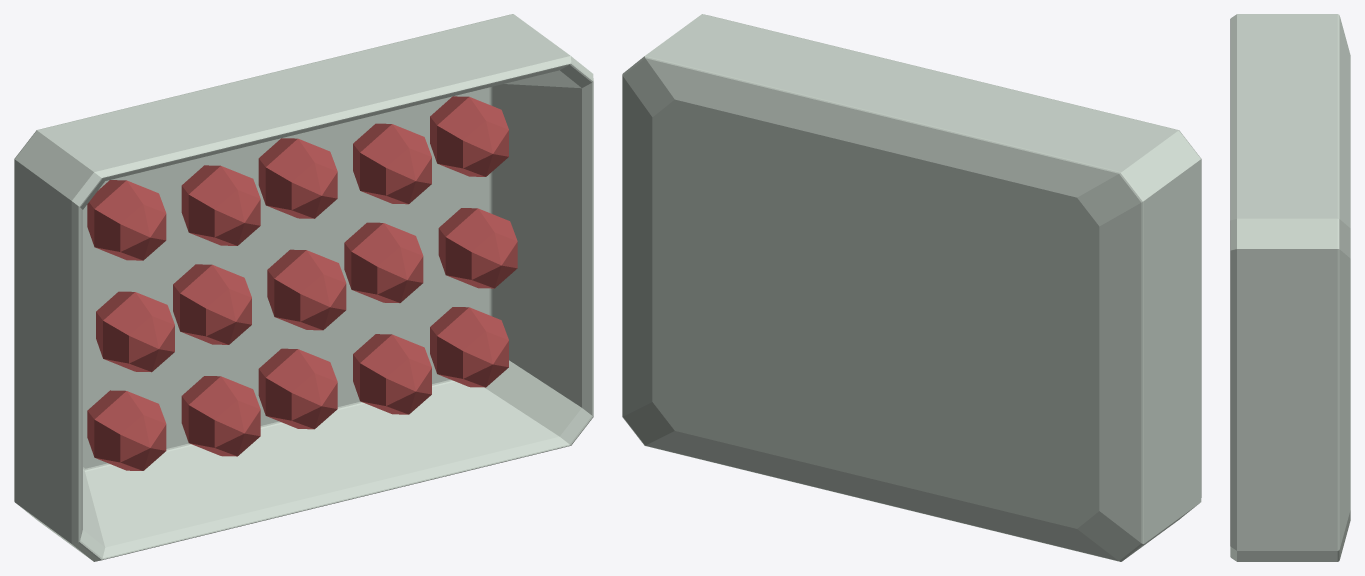
Rendered from cranberries.glb.
3 views of the same model, side by side, from view 1: azimuth 30°, elevation 25°; view 2: azimuth 150°, elevation 25°; view 3: azimuth 270°, elevation 25° (orthographic). The views are drawn at different scales.
Visible parts, largest first — view 1: cranberries; view 2: cranberries; view 3: cranberries.
Boxes of the visible parts, <box> form: cranberries: <box>14,14,593,561</box>; cranberries: <box>622,14,1201,561</box>; cranberries: <box>1230,14,1350,561</box>.
Size of the model in its own units: 0.14 by 0.1 by 0.0318.
